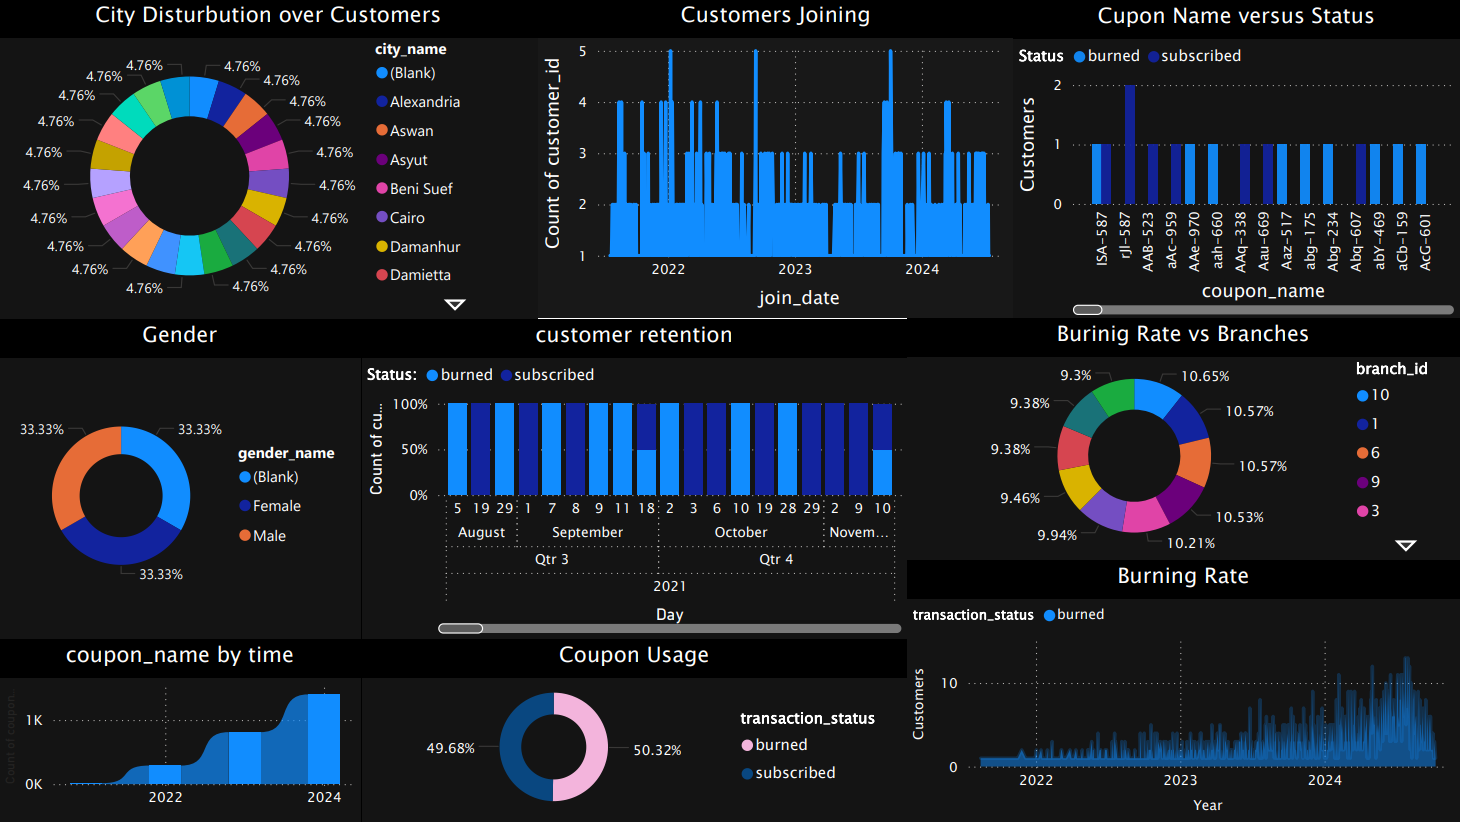

The page's visual inventory and layout, read from the dashboard file:
{"tool":"powerbi","page":{"name":"Page 1","canvas":[1280,720],"ordinal":0},"visuals":[{"type":"donutChart","title":"City Disturbution over Customers","fields":{"Category":["cities.city_name"],"Y":["CountNonNull(customers.customer_id)"]},"box":[0,0,473.4,279.9],"z":0},{"type":"donutChart","title":"Gender","fields":{"Category":["genders.gender_name"],"Y":["CountNonNull(customers.customer_id)"]},"box":[0,279.9,318.4,279.9],"z":1000},{"type":"ribbonChart","title":"coupon_name by time","fields":{"Category":["transactions.burn_date.Variation.Date Hierarchy.Year","transactions.burn_date.Variation.Date Hierarchy.Quarter","transactions.burn_date.Variation.Date Hierarchy.Month","transactions.burn_date.Variation.Date Hierarchy.Day"],"Y":["CountNonNull(transactions.coupon_name)"]},"box":[0,559.9,318.4,160.5],"z":2000},{"type":"donutChart","title":"Coupon Usage","fields":{"Category":["transactions.transaction_status"],"Y":["CountNonNull(transactions.coupon_name)"]},"box":[318.4,559.9,477.5,160.5],"z":3000},{"type":"hundredPercentStackedColumnChart","title":"customer retention","fields":{"Category":["transactions.transaction_date.Variation.Date Hierarchy.Year","transactions.transaction_date.Variation.Date Hierarchy.Quarter","transactions.transaction_date.Variation.Date Hierarchy.Month","transactions.transaction_date.Variation.Date Hierarchy.Day"],"Series":["transactions.transaction_status"],"Y":["CountNonNull(transactions.customer_id)"]},"box":[318.4,279.9,477.5,279.9],"z":4000},{"type":"areaChart","title":"Burning Rate","fields":{"Category":["transactions.burn_date.Variation.Date Hierarchy.Year","transactions.burn_date.Variation.Date Hierarchy.Quarter","transactions.burn_date.Variation.Date Hierarchy.Month","transactions.burn_date.Variation.Date Hierarchy.Day"],"Y":["CountNonNull(transactions.customer_id)"],"Series":["transactions.transaction_status"]},"box":[795.9,491.3,484.4,229.2],"z":5000},{"type":"donutChart","title":"Burinig Rate vs Branches","fields":{"Category":["transactions.branch_id"],"Y":["CountNonNull(transactions.burn_date)"]},"box":[796,279.4,484.3,212],"z":6000},{"type":"clusteredColumnChart","title":"Cupon Name versus Status","fields":{"Category":["transactions.coupon_name"],"Y":["CountNonNull(transactions.customer_id)"],"Series":["transactions.transaction_status"]},"box":[888.6,1.4,391.7,279.4],"z":7000},{"type":"stackedAreaChart","title":"Customers Joining","fields":{"Category":["customers.join_date"],"Y":["CountNonNull(customers.customer_id)"]},"box":[473.1,0,415.5,279.4],"z":8000}]}

Visuals, with their boxes in screenshot pixels (x1, y1, x2, y2), scaled from the page's 1280x720 canvas onto the 1460x822 screenshot:
"City Disturbution over Customers" donutChart: <box>0,0,540,320</box>
"Gender" donutChart: <box>0,320,363,639</box>
"coupon_name by time" ribbonChart: <box>0,639,363,821</box>
"Coupon Usage" donutChart: <box>363,639,908,821</box>
"customer retention" hundredPercentStackedColumnChart: <box>363,320,908,639</box>
"Burning Rate" areaChart: <box>908,561,1459,821</box>
"Burinig Rate vs Branches" donutChart: <box>908,319,1459,561</box>
"Cupon Name versus Status" clusteredColumnChart: <box>1014,2,1459,321</box>
"Customers Joining" stackedAreaChart: <box>540,0,1014,319</box>
